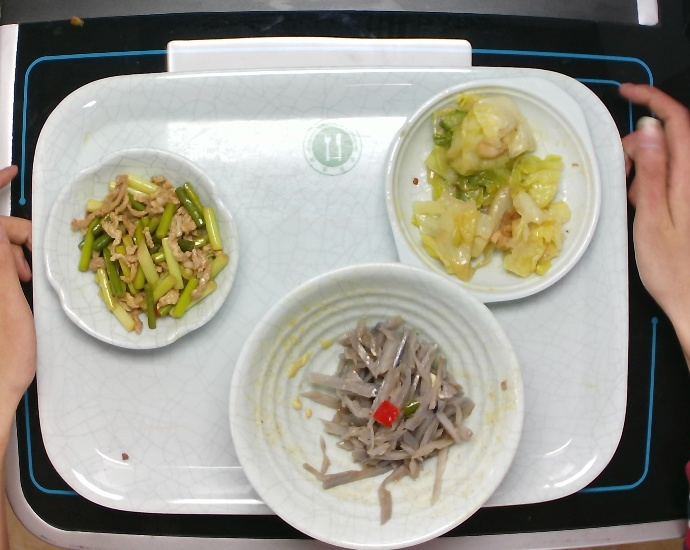JYsf-Ao_Yuan_Wan: (40, 143, 240, 351)
JYsf-Shuang_Er_Pan: (381, 72, 608, 307)
JYsf-Xiao_Tang_Wan: (225, 258, 529, 550)
